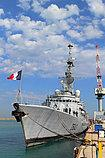MIL_Ship: (14, 48, 90, 143)
